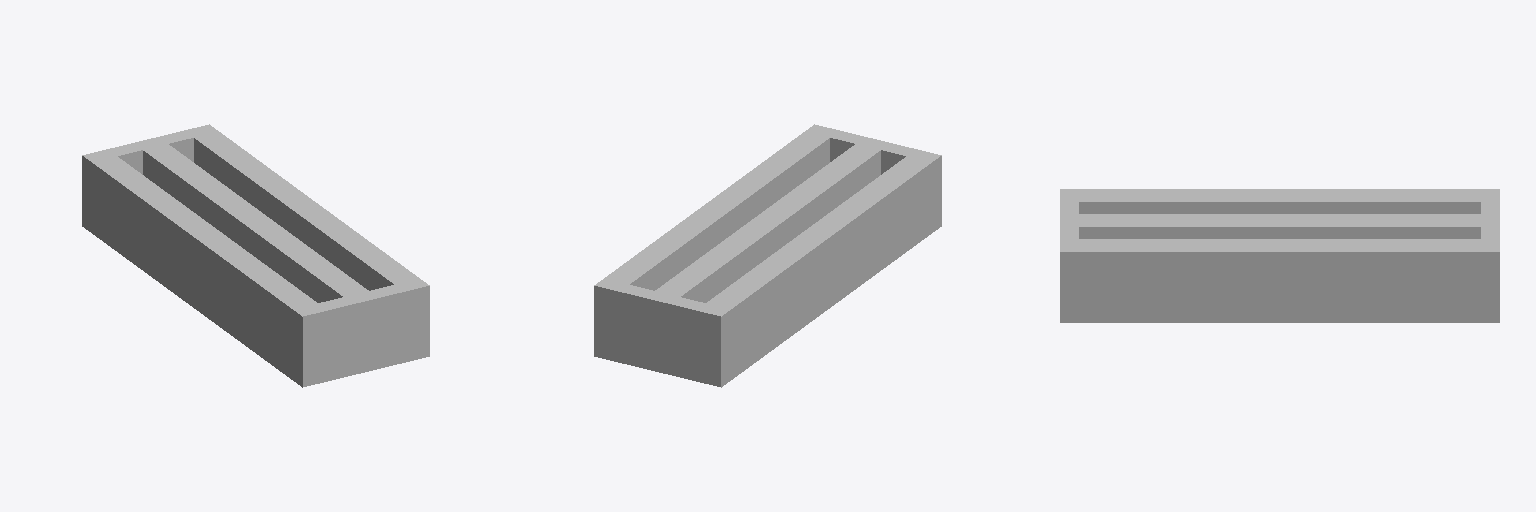
Rendered from plate-saw.obj.
3 views of the same model, side by side, from view 1: azimuth 30°, elevation 25°; view 2: azimuth 150°, elevation 25°; view 3: azimuth 270°, elevation 25° (orthographic).
Visible parts, largest first — view 1: Cube; view 2: Cube; view 3: Cube.
Part boxes in pixels (x1,y1,x2,y2): Cube: (82, 124, 429, 387); Cube: (594, 124, 941, 387); Cube: (1060, 189, 1499, 322).
Bounding box in the file's own units: 1.5 × 0.8 × 4.5.